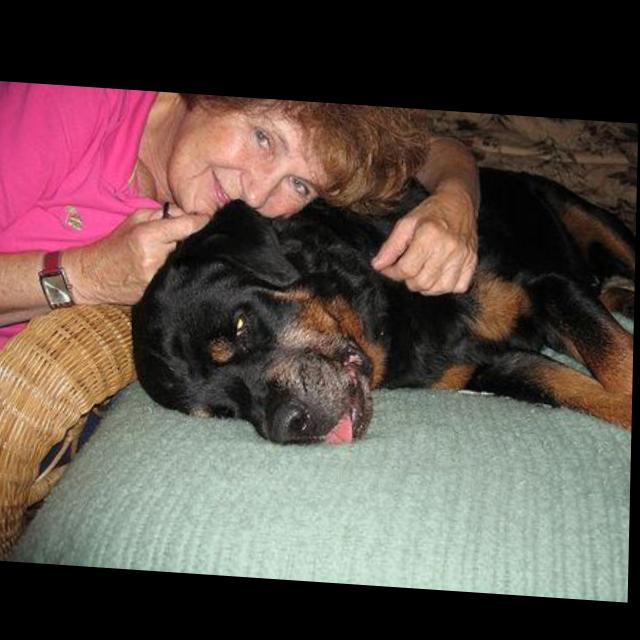face: (169, 90, 328, 222)
person: (1, 81, 485, 398)
rottweiler: (132, 140, 639, 459)
